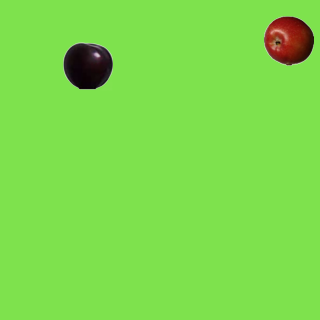Apple Braeburn: (263, 15, 313, 65)
Cherry Wax Black: (62, 40, 112, 90)
